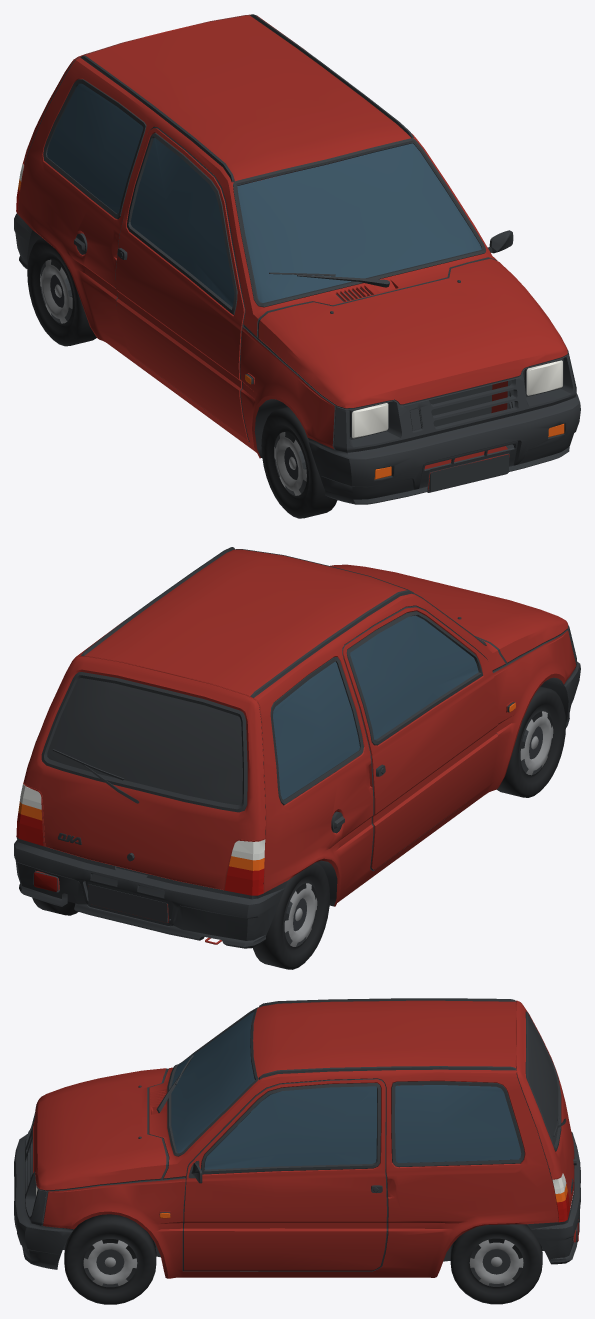
File: oka.glb
The picture shows the model from 3 angles, top to bottom: view 1: azimuth 30°, elevation 25°; view 2: azimuth 150°, elevation 25°; view 3: azimuth 270°, elevation 25°; orthographic projection. The views are drawn at different scales.
Parts seen in each view (by area): view 1: paint, glass, trim, wheel_fr, wheel_rr, headlights, bulkhead; view 2: paint, trim, glass, wheel_rr, wheel_fr, taillights, reverse_lights; view 3: paint, glass, trim, wheel_fl, wheel_rl, hub_fl, hub_rl.
Part boxes in pixels (left/top/right/bottom): paint: left=17, top=14, right=567, bottom=490; glass: left=47, top=83, right=481, bottom=307; trim: left=14, top=14, right=580, bottom=504; wheel_fr: left=261, top=407, right=337, bottom=518; wheel_rr: left=27, top=238, right=96, bottom=346; headlights: left=352, top=360, right=562, bottom=438; bulkhead: left=429, top=380, right=513, bottom=426; paint: left=23, top=549, right=576, bottom=944; trim: left=14, top=547, right=580, bottom=948; glass: left=273, top=615, right=478, bottom=799; wheel_rr: left=253, top=862, right=329, bottom=969; wheel_fr: left=496, top=686, right=565, bottom=797; taillights: left=16, top=812, right=264, bottom=895; reverse_lights: left=19, top=784, right=265, bottom=860; paint: left=33, top=1000, right=578, bottom=1278; glass: left=171, top=1012, right=521, bottom=1169; trim: left=14, top=998, right=580, bottom=1271; wheel_fl: left=64, top=1214, right=156, bottom=1304; wheel_rl: left=450, top=1224, right=542, bottom=1304; hub_fl: left=96, top=1249, right=124, bottom=1274; hub_rl: left=482, top=1249, right=510, bottom=1274.
Size of the model in its own units: 1.58 by 1.43 by 3.28.
